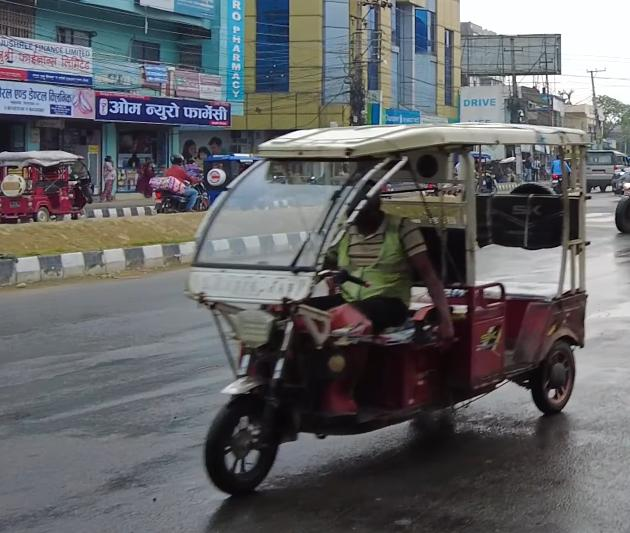e-rickshaw: (188, 107, 598, 498), (0, 145, 97, 226)
